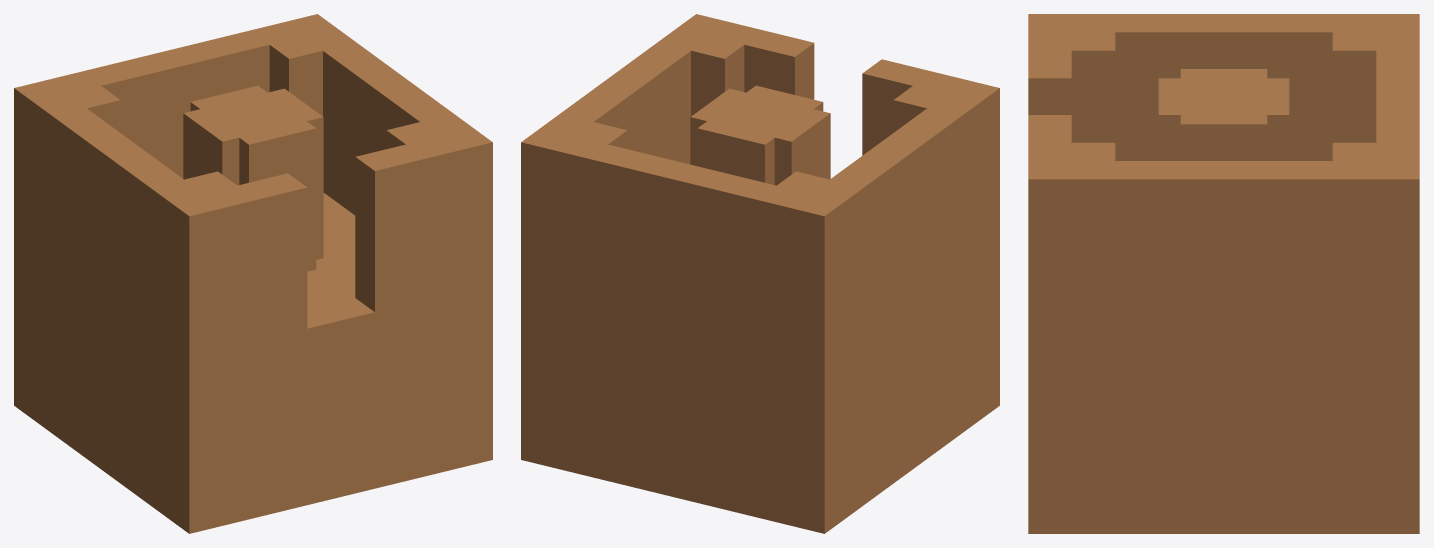
The model's file is Thick_End_Model.fbx.
3 renders of one model, left to right at view 1: azimuth 30°, elevation 25°; view 2: azimuth 150°, elevation 25°; view 3: azimuth 270°, elevation 25°, orthographic. The views are drawn at different scales.
Visible parts, largest first — view 1: Cube; view 2: Cube; view 3: Cube.
Boxes of the visible parts, bbox=[...] form: Cube: bbox=[14, 14, 492, 533]; Cube: bbox=[521, 14, 999, 533]; Cube: bbox=[1028, 14, 1419, 533].
Bounding box in the file's own units: 100 × 100 × 100.
